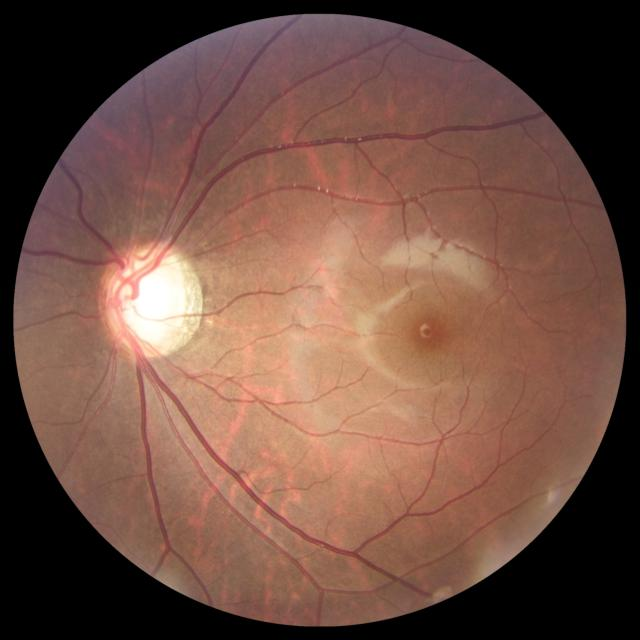OC: (113, 258, 179, 343)
OD: (102, 242, 190, 357)
